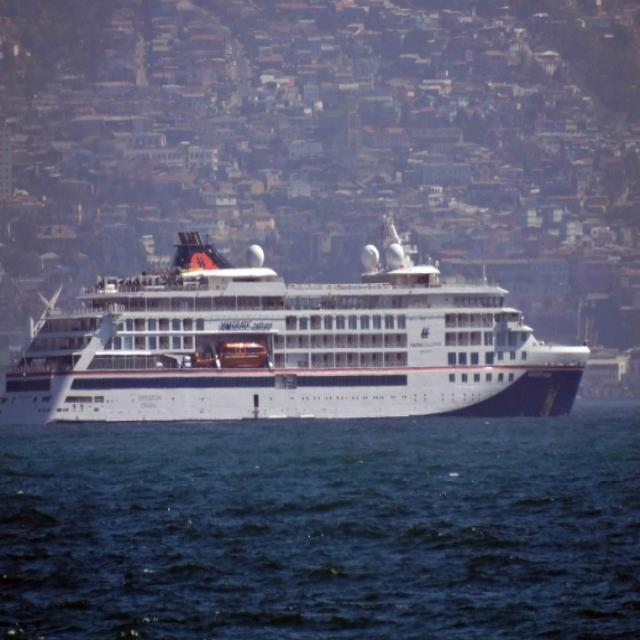cruises: (1, 220, 595, 432)
